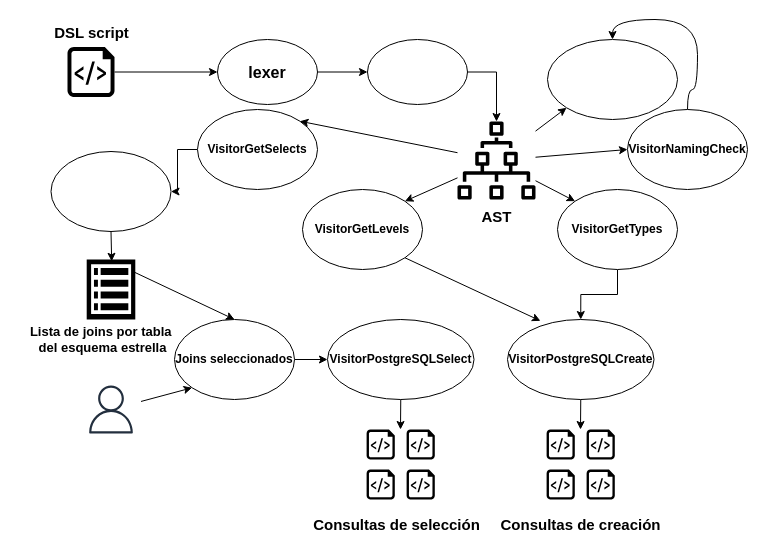
The diagram is 765 pixels wide and 557 high, and some of its shapes have lost their labels. Here are the shapes that lost their labels. From the top down, the centre of each, then its label:
At (x=417, y=71): "parser".
At (x=612, y=79): "VisitorSemanticCheck".
At (x=110, y=191): "Inferencia de Joins".
At (x=110, y=409): "Desarrollador".
